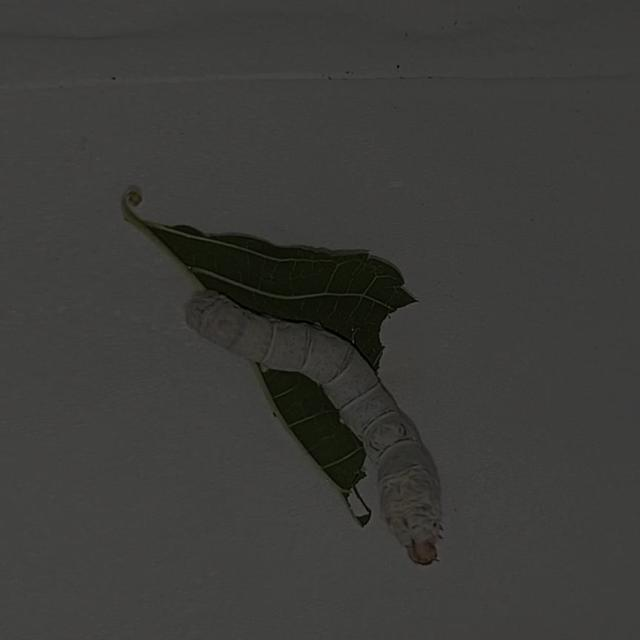Healthy: (162, 272, 472, 588)
